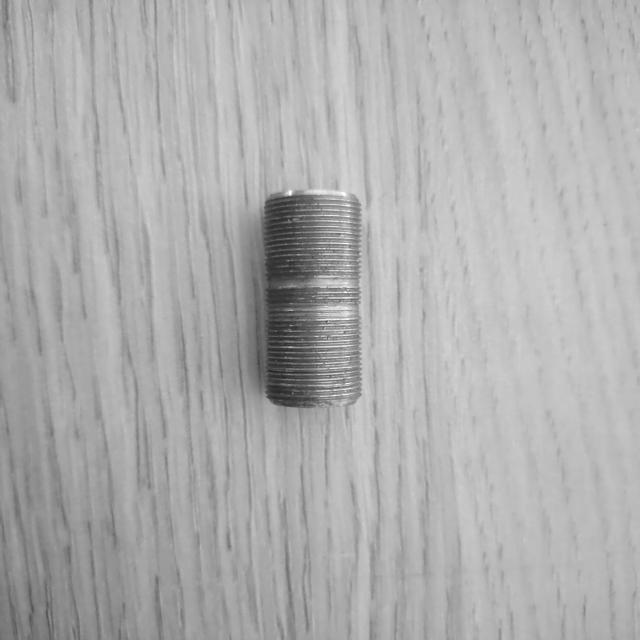Broken: (262, 186, 364, 413)
